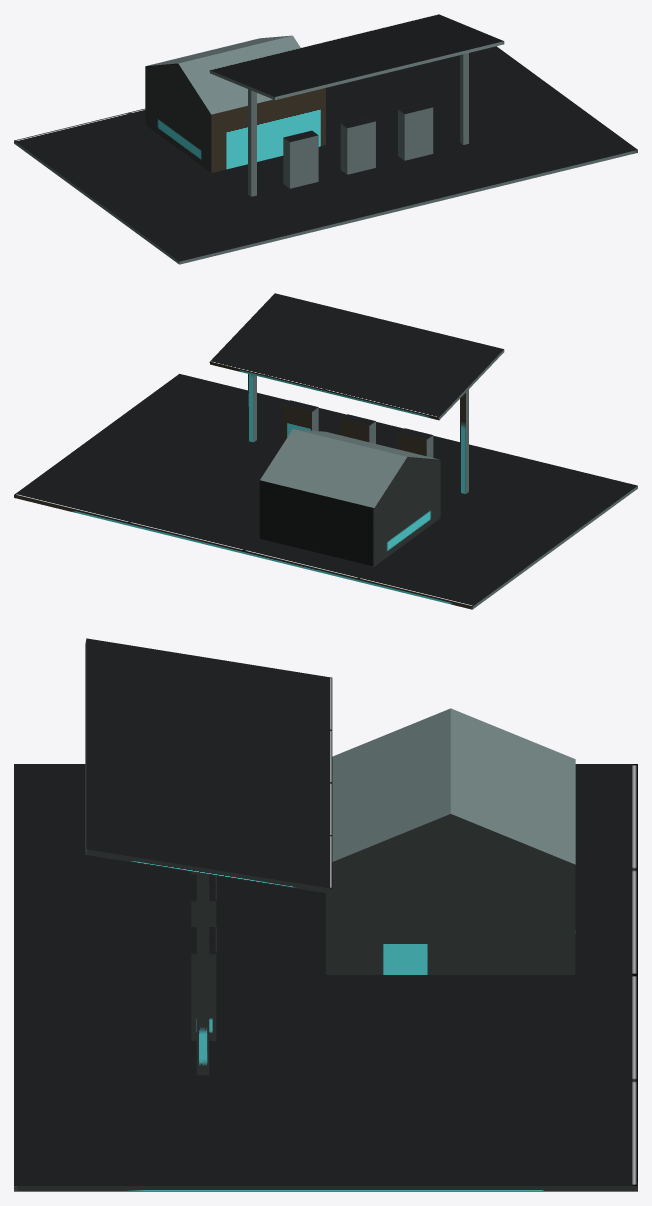
Rendered from BasicServiceStation.fbx.
The picture shows the model from 3 angles, top to bottom: view 1: azimuth 30°, elevation 25°; view 2: azimuth 150°, elevation 25°; view 3: azimuth 270°, elevation 25°; orthographic projection. The views are drawn at different scales.
Parts seen in each view (by area): view 1: Cube.002; view 2: Cube.002; view 3: Cube.002.
Boxes of the visible parts, bbox=[...] form: Cube.002: bbox=[14, 14, 637, 264]; Cube.002: bbox=[14, 293, 637, 609]; Cube.002: bbox=[14, 638, 637, 1191].
Bounding box in the file's own units: 800 × 220 × 500.
